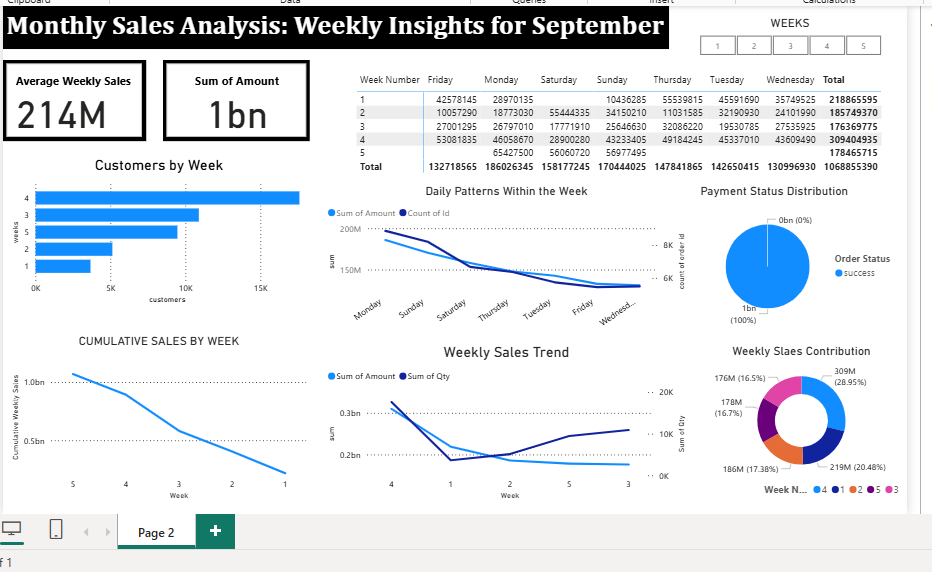

The page's visual inventory and layout, read from the dashboard file:
{"tool":"powerbi","page":{"name":"Page 2","canvas":[1280,720],"ordinal":0},"visuals":[{"type":"textbox","box":[0,0,943.9,60.9],"z":0},{"type":"cardVisual","fields":{"Data":["weekdata.Average Weekly Sales"]},"box":[0,76.5,202.7,114.8],"z":1000},{"type":"cardVisual","fields":{"Data":["Sum(weekdata.Amount)"]},"box":[226.8,76.5,208.3,114.8],"z":2000},{"type":"pivotTable","fields":{"Rows":["weekdata.Week Number"],"Columns":["weekdata.Day of the Week "],"Values":["weekdata.Total Sales"]},"box":[496.1,89.3,772.4,155.9],"z":2001},{"type":"slicer","title":"WEEKS","fields":{"Values":["weekdata.Week Number"]},"box":[962.4,14.2,306.1,62.4],"z":2002},{"type":"barChart","title":"Customers by Week","fields":{"Category":["weekdata.Week Number"],"Y":["CountNonNull(weekdata.CUS-ID)"]},"box":[7.1,214,428,212.6],"z":2003},{"type":"lineChart","title":"Daily Patterns Within the Week","fields":{"Category":["weekdata.Day of the Week "],"Y":["Sum(weekdata.Amount)"],"Y2":["CountNonNull(weekdata.Id)"]},"box":[455,252.3,517.3,215.4],"z":2004},{"type":"pieChart","title":"Payment Status Distribution","fields":{"Category":["weekdata.Order Status"],"Y":["Sum(weekdata.Qty)","Sum(weekdata.Amount)"]},"box":[983.6,252.3,296.2,212.6],"z":2005},{"type":"lineChart","title":"CUMULATIVE SALES BY WEEK","fields":{"Category":["weekdata.Week Number"],"Y":["weekdata.Cumulative Weekly Sales"]},"box":[7.1,464.9,428,239.5],"z":2006},{"type":"lineChart","title":"Weekly Sales Trend","fields":{"Category":["weekdata.Week Number"],"Y":["Sum(weekdata.Amount)"],"Y2":["Sum(weekdata.Qty)"]},"box":[455,479.1,517.3,225.4],"z":2007},{"type":"donutChart","title":"Weekly Slaes Contribution","fields":{"Category":["weekdata.Week Number"],"Y":["Sum(weekdata.Amount)"]},"box":[984,479,296,225],"z":2008}]}

Visuals, with their boxes on the page's 1280x720 design canvas (x1, y1, x2, y2). These are canvas units, not pixel positions in the 932x572 screenshot, which may show the page scaled, cropped or inside an application window:
textbox: pyautogui.locateOnScreen(0, 0, 944, 61)
cardVisual - weekdata.Average Weekly Sales: pyautogui.locateOnScreen(0, 76, 203, 191)
cardVisual - Sum(weekdata.Amount): pyautogui.locateOnScreen(227, 76, 435, 191)
pivotTable - weekdata.Week Number x weekdata.Day of the Week : pyautogui.locateOnScreen(496, 89, 1268, 245)
"WEEKS" slicer: pyautogui.locateOnScreen(962, 14, 1268, 77)
"Customers by Week" barChart: pyautogui.locateOnScreen(7, 214, 435, 427)
"Daily Patterns Within the Week" lineChart: pyautogui.locateOnScreen(455, 252, 972, 468)
"Payment Status Distribution" pieChart: pyautogui.locateOnScreen(984, 252, 1280, 465)
"CUMULATIVE SALES BY WEEK" lineChart: pyautogui.locateOnScreen(7, 465, 435, 704)
"Weekly Sales Trend" lineChart: pyautogui.locateOnScreen(455, 479, 972, 704)
"Weekly Slaes Contribution" donutChart: pyautogui.locateOnScreen(984, 479, 1280, 704)
